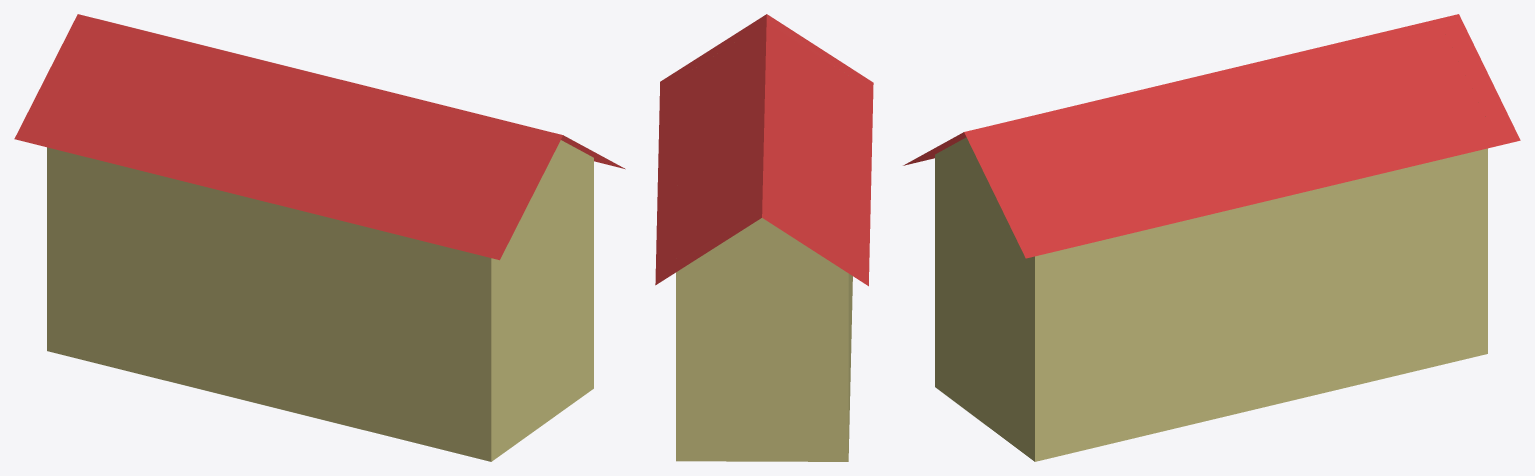
The picture shows the model from 3 angles, left to right: view 1: azimuth 30°, elevation 25°; view 2: azimuth 150°, elevation 25°; view 3: azimuth 270°, elevation 25°; orthographic projection. The views are drawn at different scales.
Size of the model in its own units: 10.36 by 12.86 by 6.83.
